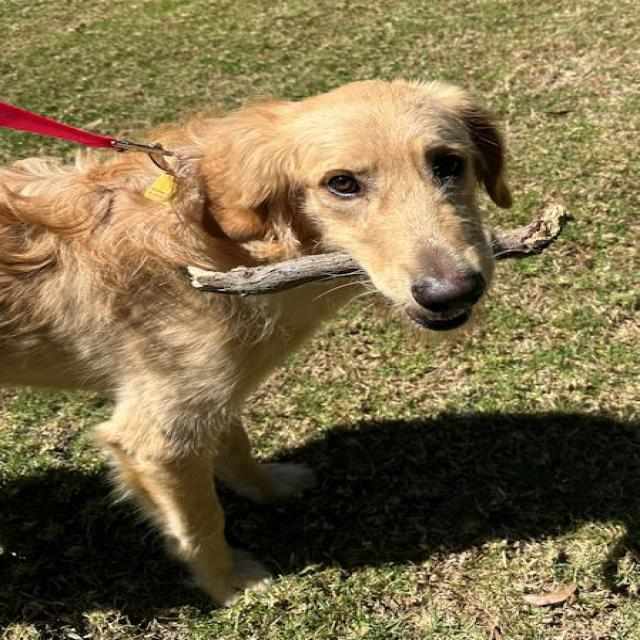golden_retriever_dog: (167, 76, 563, 344)
